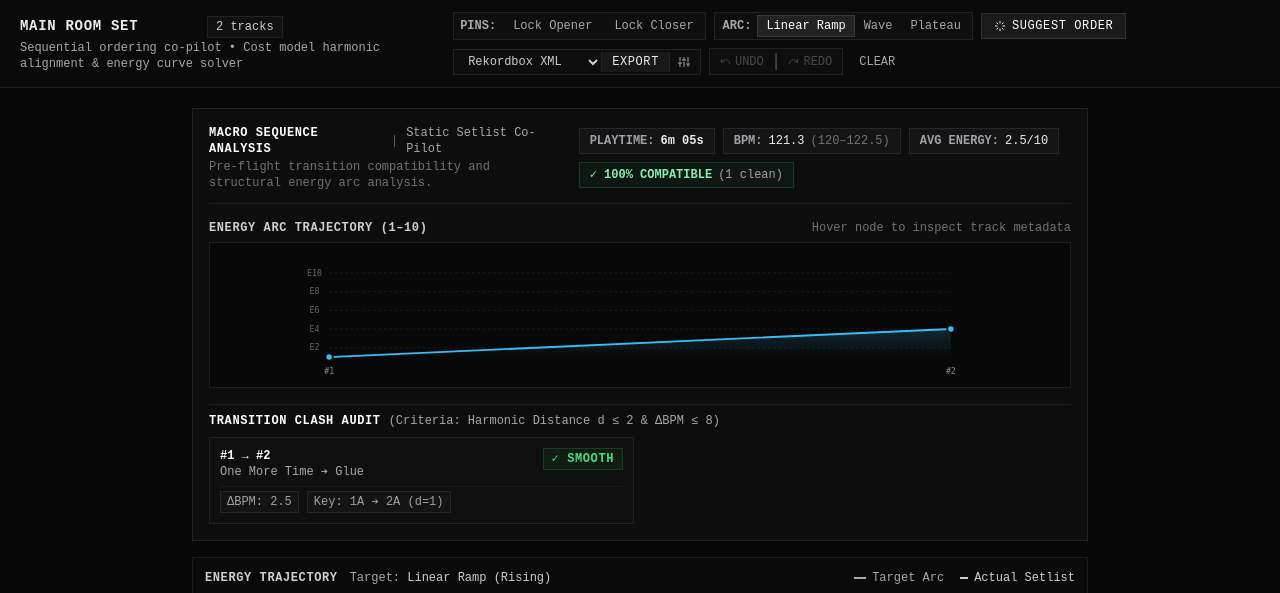
it: Export Safety & Structured Result Regression Tests › exports with custom destination path and explicit overwrite when enabled in modal
The width and height of the screenshot is (1280, 593).
# Open export modal
Click the button named "Export options" at (684, 62), box x1=669 y1=52 x2=698 y2=72
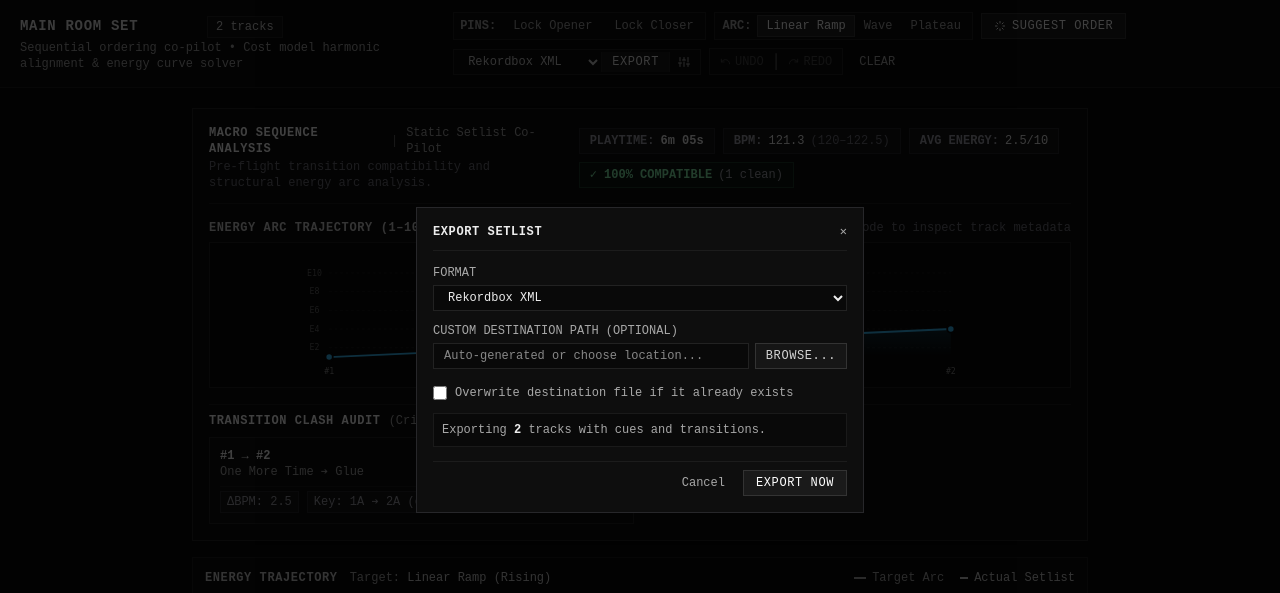
# Change format to M3U8
Select "M3U8 Playlist" in the dropdown labelled "Format" at (640, 298), box x1=433 y1=285 x2=847 y2=311
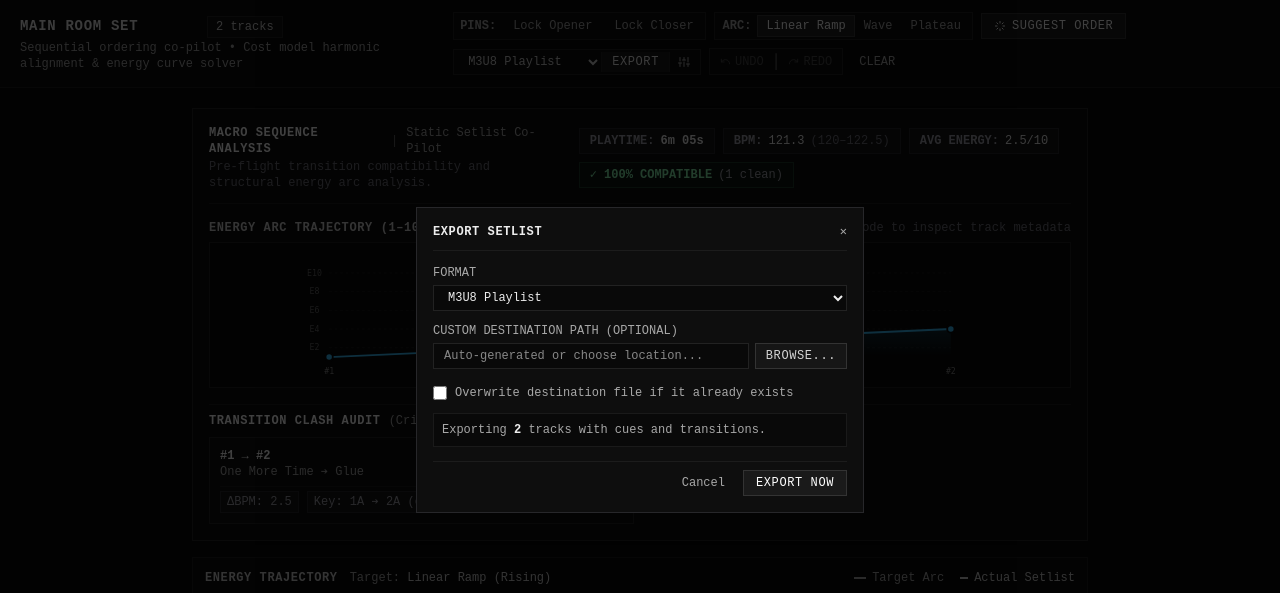
# Enter custom destination path
Type "D:/Sets/festival2026.m3u8" into the field labelled "Custom Destination Path (optional)" at (591, 356), box x1=433 y1=343 x2=749 y2=369
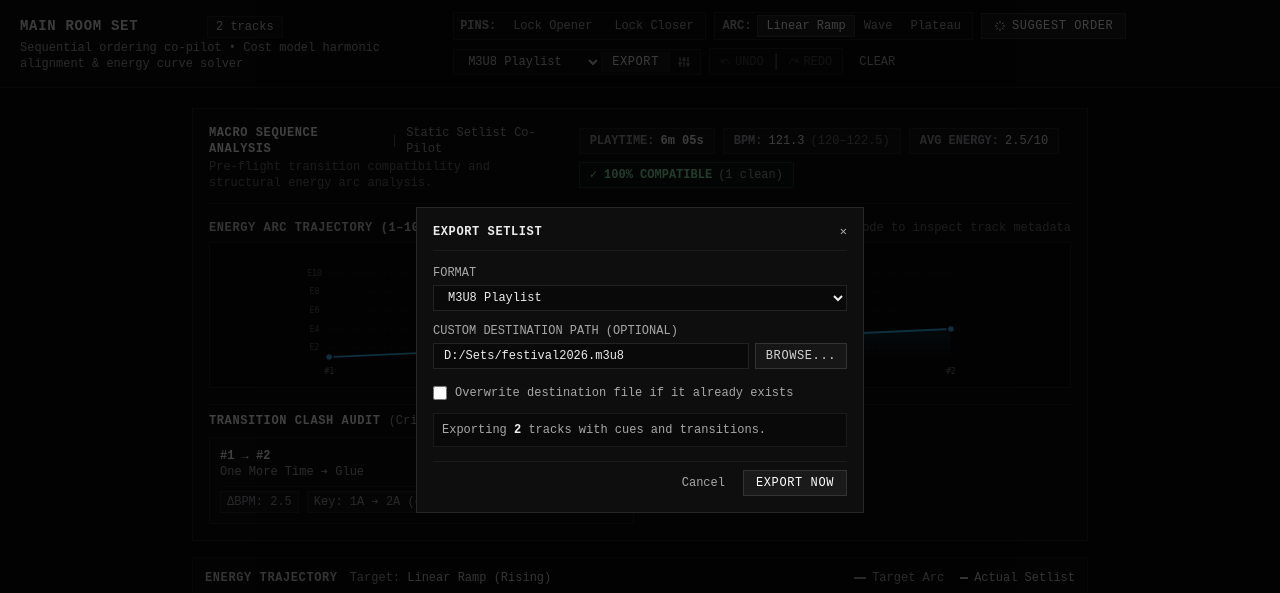
# Check overwrite checkbox
Click the checkbox labelled "Overwrite destination file if it already exists" at (440, 393), box x1=433 y1=386 x2=447 y2=400
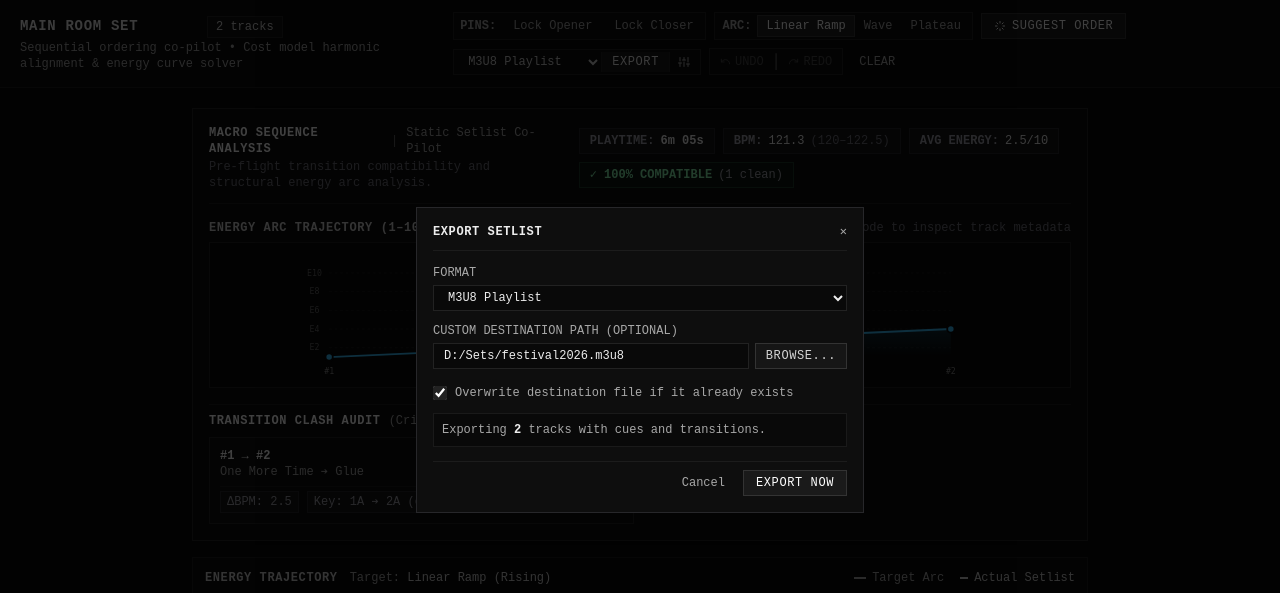
# Click Export inside modal
Click the button with aria-label "confirm export" at (795, 483), box x1=743 y1=470 x2=847 y2=496
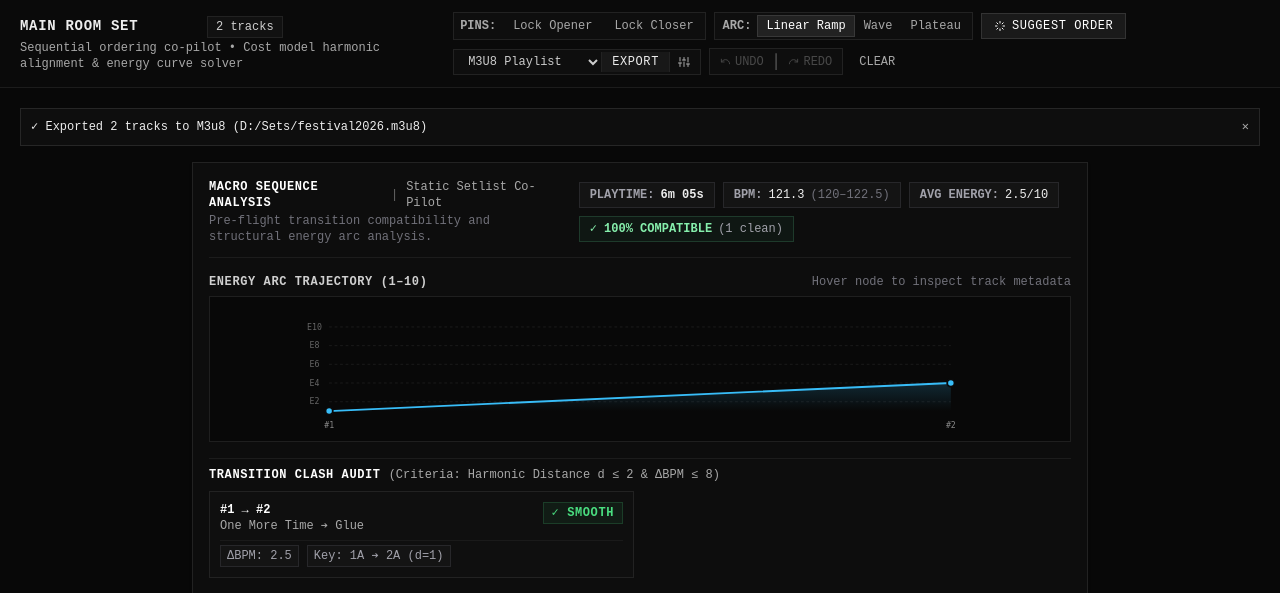
Expected: the text "✓ Exported 2 tracks to M3u8 (D:/Sets/festival2026.m3u8)" is shown, x1=31 y1=119 x2=427 y2=135
